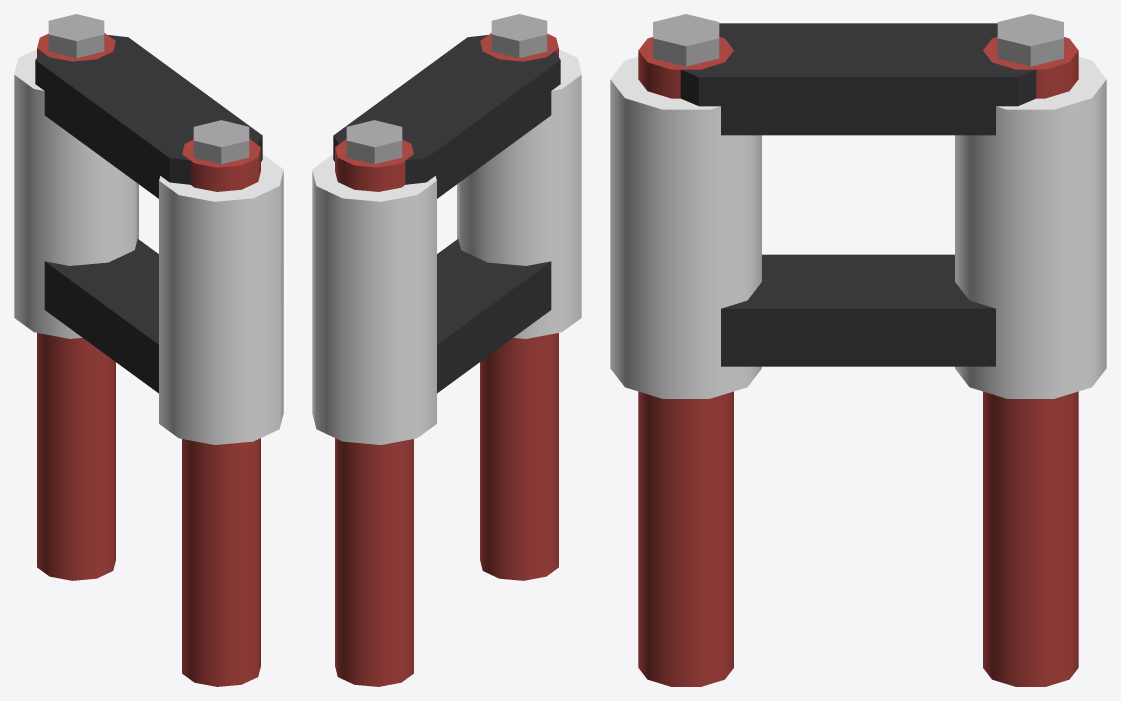
The model's file is cruiser_black_glide_upper_lod1.glb.
3 renders of one model, left to right at view 1: azimuth 30°, elevation 25°; view 2: azimuth 150°, elevation 25°; view 3: azimuth 270°, elevation 25°, orthographic. The views are drawn at different scales.
Visible parts, largest first — view 1: cruiser_black_glide_upper_lod1; view 2: cruiser_black_glide_upper_lod1; view 3: cruiser_black_glide_upper_lod1.
Boxes of the visible parts, box(x1,y1,x2,y2) form: cruiser_black_glide_upper_lod1: box(14, 14, 283, 686); cruiser_black_glide_upper_lod1: box(312, 14, 581, 686); cruiser_black_glide_upper_lod1: box(610, 14, 1106, 686).
Size of the model in its own units: 0.0904 by 0.441 by 0.311.
